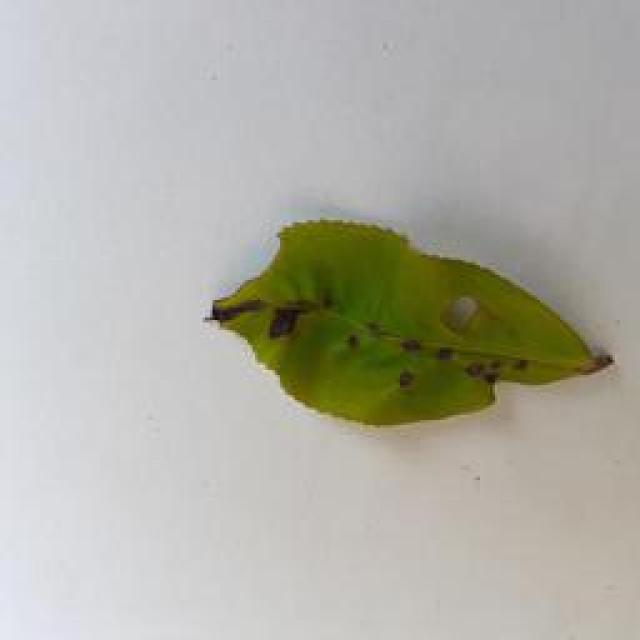Helopeltis: (182, 197, 622, 438)
